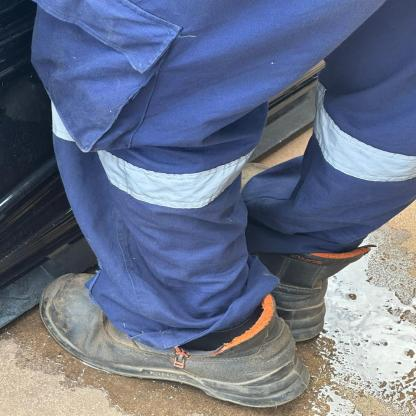bota: (44, 261, 314, 414), (258, 226, 391, 347)
